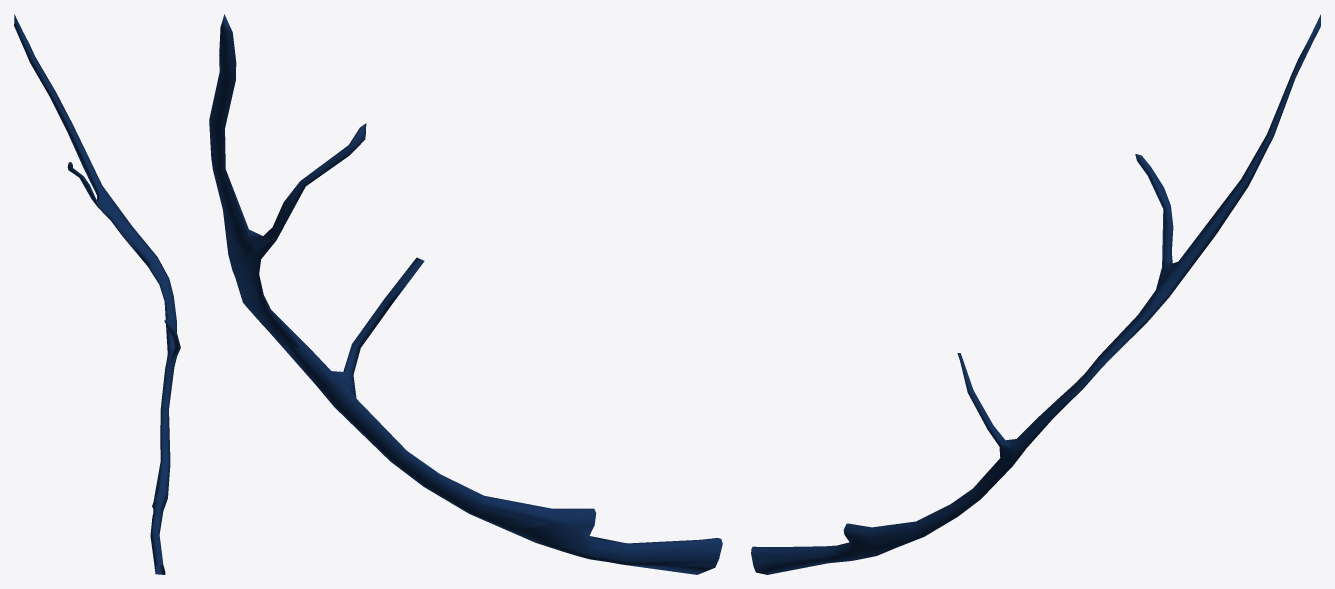
The model's file is L vena subscapularis.fbx.
3 views of the same model, side by side, from view 1: azimuth 30°, elevation 25°; view 2: azimuth 150°, elevation 25°; view 3: azimuth 270°, elevation 25° (orthographic). The views are drawn at different scales.
Visible parts, largest first — view 1: L vena subscapularis, L vena subscapularis low; view 2: L vena subscapularis, L vena subscapularis low; view 3: L vena subscapularis, L vena subscapularis low.
Part boxes in pixels (<box>): L vena subscapularis: <box>14,26,180,574</box>; L vena subscapularis low: <box>14,14,177,574</box>; L vena subscapularis: <box>209,14,722,567</box>; L vena subscapularis low: <box>209,27,722,574</box>; L vena subscapularis: <box>751,21,1320,574</box>; L vena subscapularis low: <box>751,14,1320,574</box>.
Bounding box in the file's own units: 4.34 × 13.41 × 11.68.
